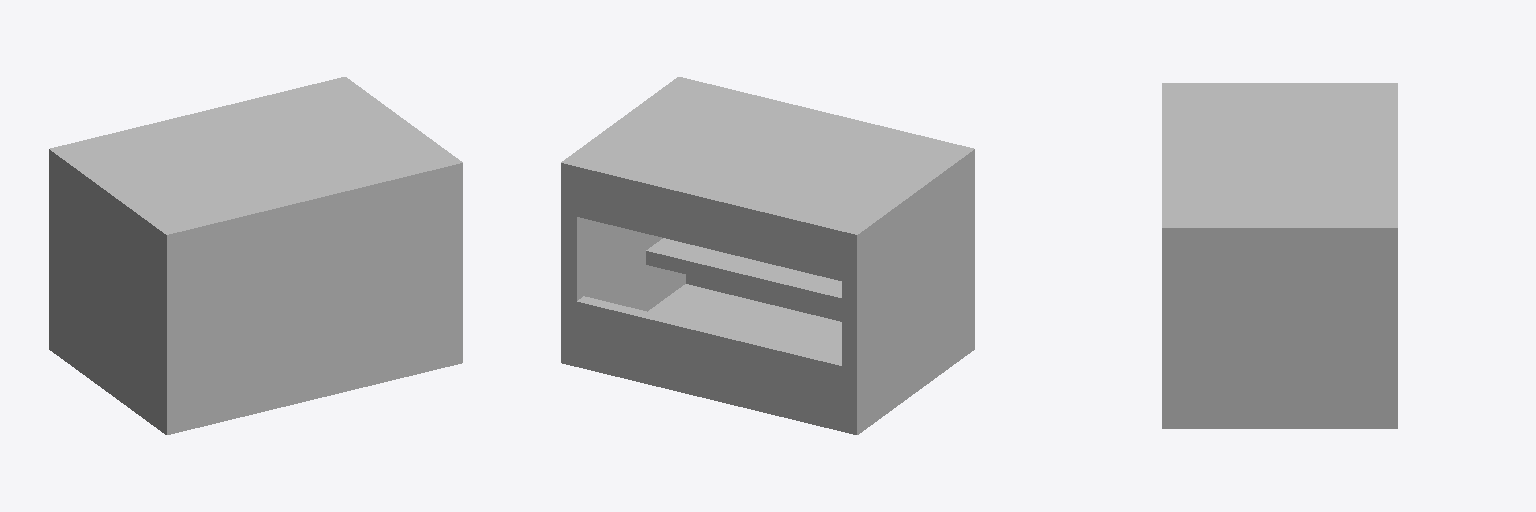
Rendered from stand2.obj.
The picture shows the model from 3 angles: view 1: azimuth 30°, elevation 25°; view 2: azimuth 150°, elevation 25°; view 3: azimuth 270°, elevation 25°; orthographic projection.
Parts seen in each view (by area): view 1: Cube; view 2: Cube; view 3: Cube.
Boxes of the visible parts, x1=… form: Cube: x1=49, y1=77, x2=462, y2=434; Cube: x1=561, y1=77, x2=974, y2=434; Cube: x1=1162, y1=83, x2=1397, y2=428.
Size of the model in its own units: 4.97 by 3.21 by 3.42.